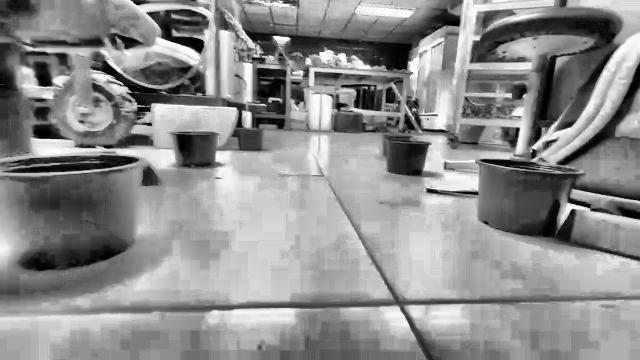pot: (0, 152, 142, 271), (476, 159, 582, 236), (170, 131, 218, 168), (387, 140, 429, 175), (236, 128, 263, 151)
